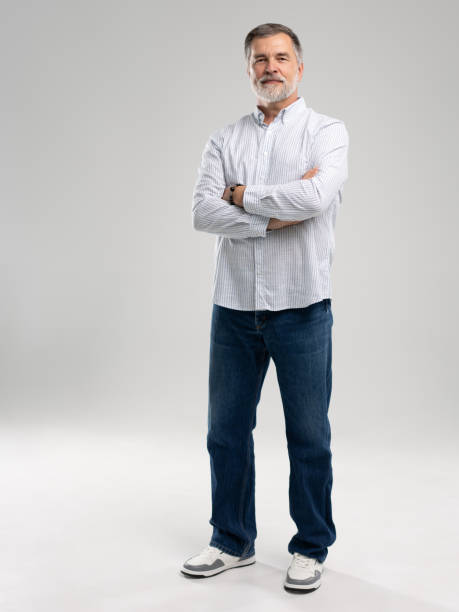Male: (181, 28, 348, 593)
